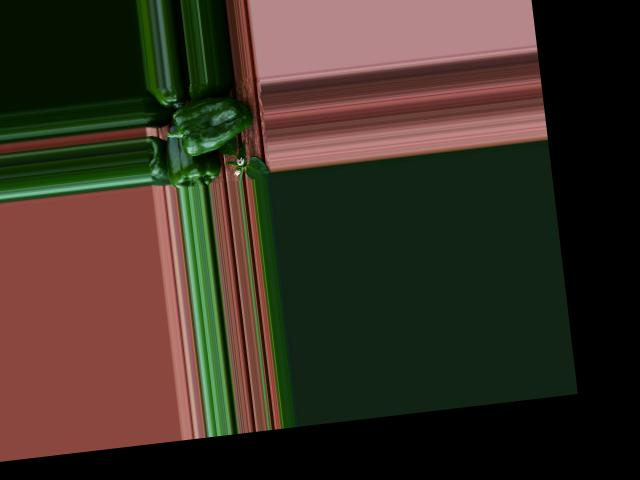bell_pepper: (144, 83, 184, 114)
